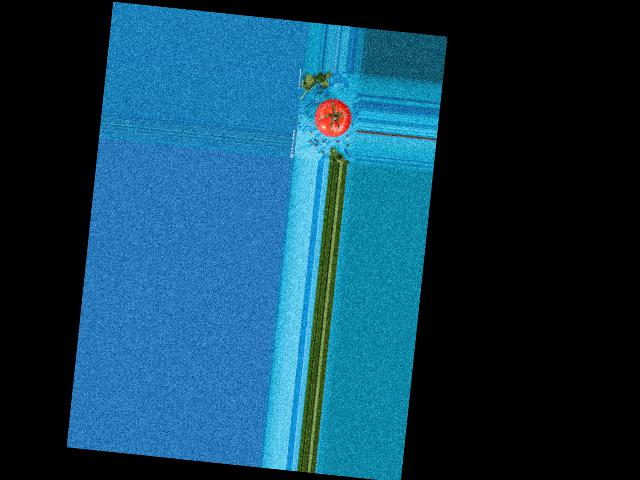tomato: (312, 96, 353, 138)
